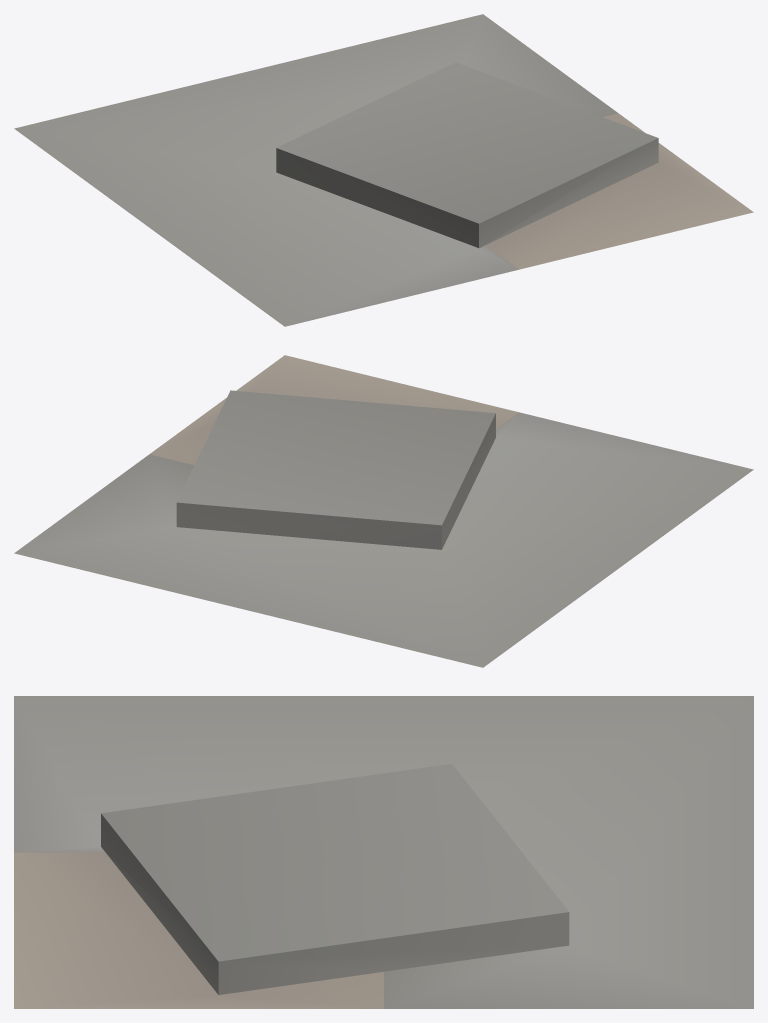
File: road-dirt-damaged.glb
3 renders of one model, top to bottom at view 1: azimuth 30°, elevation 25°; view 2: azimuth 150°, elevation 25°; view 3: azimuth 270°, elevation 25°, orthographic. The views are drawn at different scales.
Visible parts, largest first — view 1: road-dirt-damaged; view 2: road-dirt-damaged; view 3: road-dirt-damaged.
Boxes of the visible parts, x1=… form: road-dirt-damaged: x1=14, y1=14, x2=753, y2=326; road-dirt-damaged: x1=14, y1=355, x2=753, y2=667; road-dirt-damaged: x1=14, y1=696, x2=753, y2=1008.
Size of the model in its own units: 1 by 0.05 by 1.
